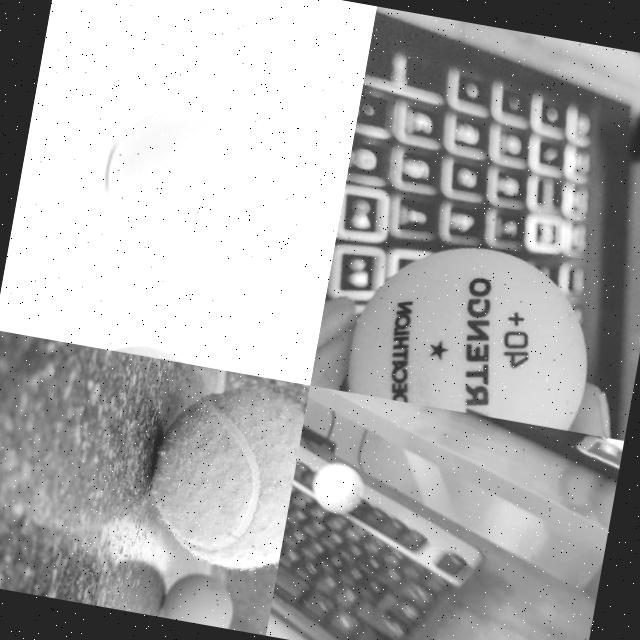ping-pong-ball: (345, 229, 606, 431), (94, 94, 265, 259), (159, 566, 238, 629), (308, 461, 366, 517)
